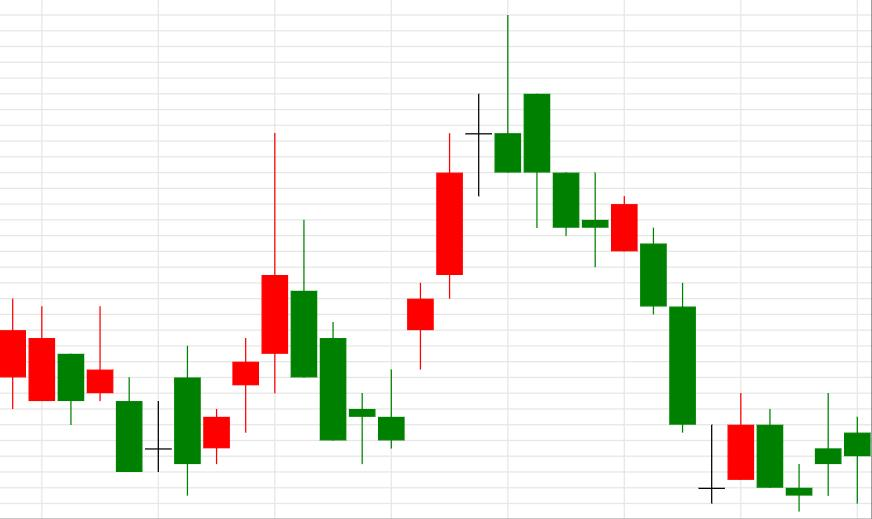morning_star_rise: (523, 95, 755, 504)
shooting_star_fall: (378, 15, 521, 448)
